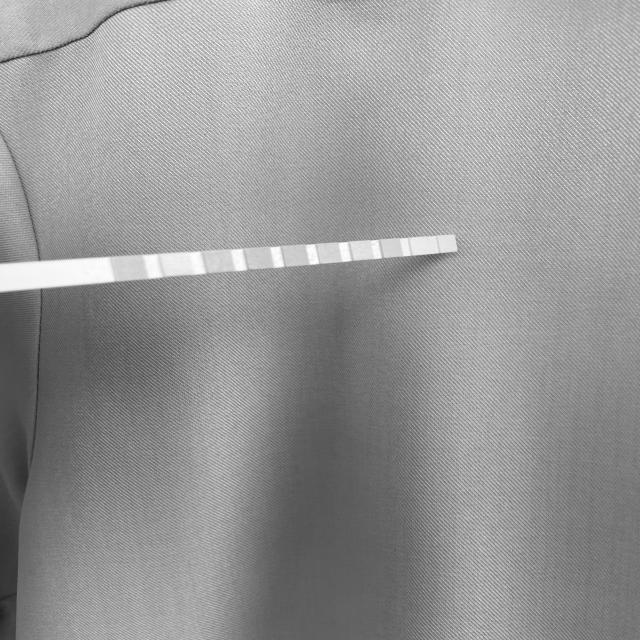Bilirubin: (164, 254, 191, 276)
Blood: (285, 246, 307, 266)
Glucose: (117, 257, 145, 278)
Ketone: (205, 252, 233, 272)
Leukocytes: (439, 236, 455, 252)
Nitrite: (410, 237, 429, 255)
Protein: (353, 241, 371, 260)
SpGravity: (246, 248, 272, 269)
Urobilinogen: (382, 240, 401, 257)
background: (0, 0, 640, 640)
pH: (319, 243, 338, 264)
strip: (0, 235, 458, 292)
